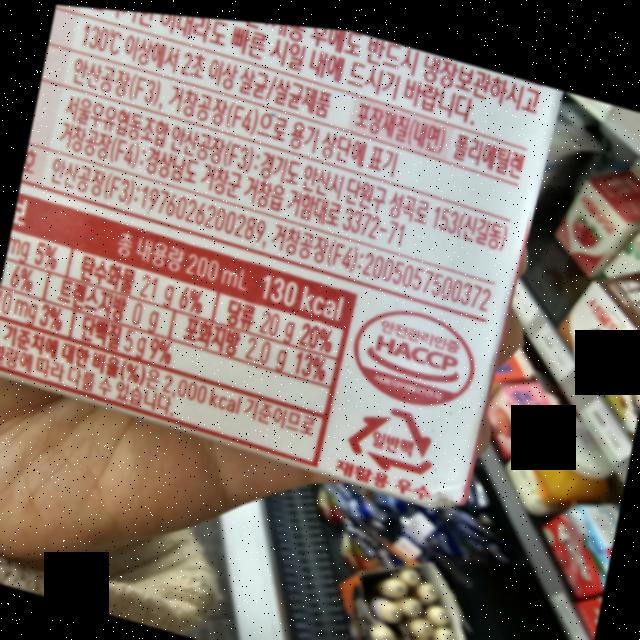NormalPack: (339, 386, 444, 477)
